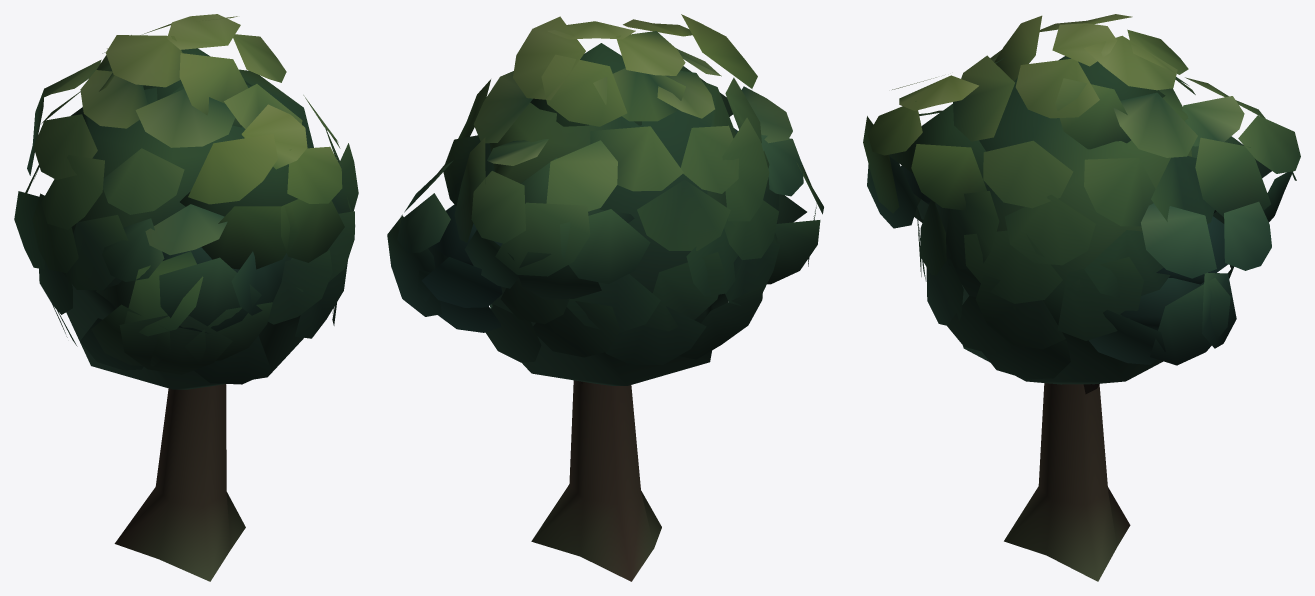
File: dialwood_tall.glb
3 renders of one model, left to right at view 1: azimuth 30°, elevation 25°; view 2: azimuth 150°, elevation 25°; view 3: azimuth 270°, elevation 25°, orthographic.
Visible parts, largest first — view 1: dialwood_tall; view 2: dialwood_tall; view 3: dialwood_tall.
Part boxes in pixels (x1,y1,x2,y2): dialwood_tall: (14,14,358,581); dialwood_tall: (387,14,823,581); dialwood_tall: (863,14,1300,581).
Bounding box in the file's own units: 2.1 × 3.27 × 2.48.
